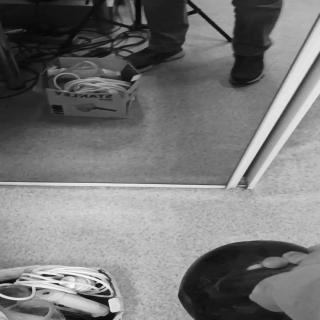girya: (177, 240, 320, 320)
